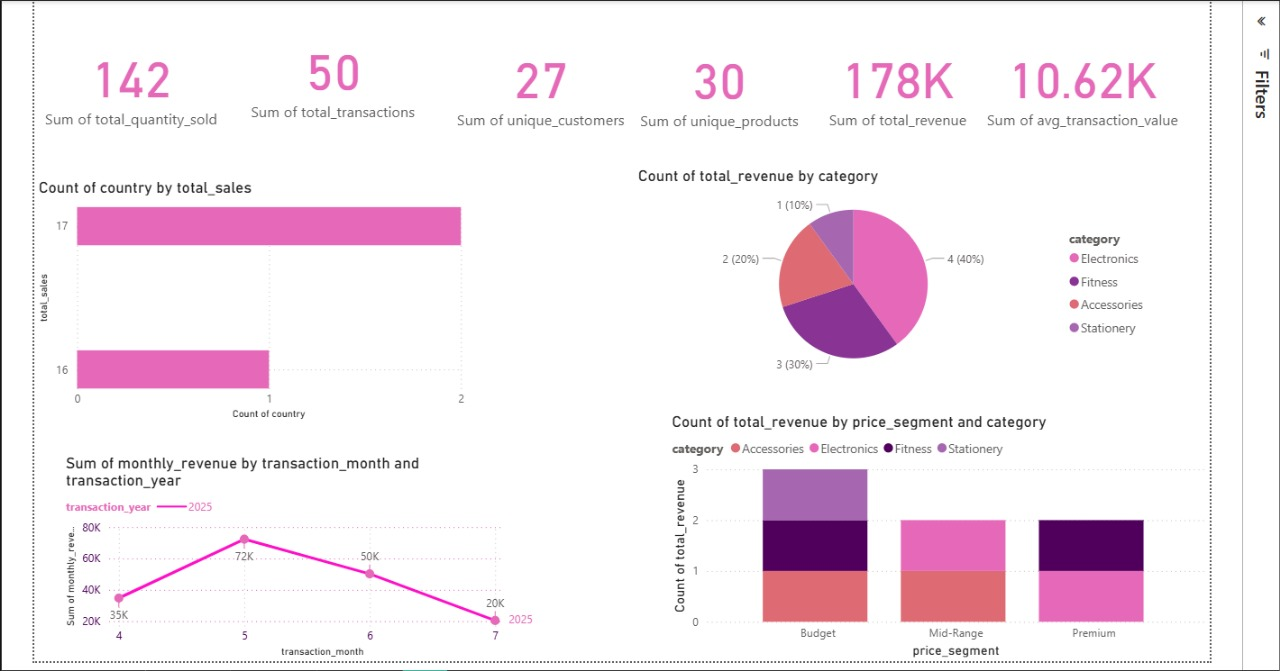

The page's visual inventory and layout, read from the dashboard file:
{"tool":"powerbi","page":{"name":"Page 1","canvas":[1280,720],"ordinal":0},"visuals":[{"type":"card","fields":{"Values":["Sum(country_detailed_analysis_gold.total_quantity_sold)"]},"box":[0,0,211.4,180],"z":0},{"type":"card","fields":{"Values":["Sum(country_detailed_analysis_gold.total_transactions)"]},"box":[228.6,0,194.3,164.3],"z":1000},{"type":"card","fields":{"Values":["Sum(country_detailed_analysis_gold.total_revenue)"]},"box":[840,8.6,200,164.3],"z":2000},{"type":"card","fields":{"Values":["Sum(country_detailed_analysis_gold.unique_customers)"]},"box":[450,18.6,202.9,145.7],"z":3000},{"type":"card","fields":{"Values":["Sum(country_detailed_analysis_gold.unique_products)"]},"box":[652.9,21.4,187.1,142.9],"z":4000},{"type":"card","fields":{"Values":["Sum(country_detailed_analysis_gold.avg_transaction_value)"]},"box":[1028.6,8.6,227.1,164.3],"z":5000},{"type":"lineChart","fields":{"Y":["Sum(monthly_sales_gold.monthly_revenue)"],"Category":["monthly_sales_gold.transaction_month"],"Series":["monthly_sales_gold.transaction_year"]},"box":[29.4,493.3,521.5,227],"z":6000},{"type":"barChart","fields":{"Y":["CountNonNull(sales_by_country_gold.country)"],"Category":["sales_by_country_gold.total_sales"]},"box":[0,192.5,473.8,268.8],"z":7000},{"type":"columnChart","fields":{"Category":["price_segment_analysis_gold.price_segment"],"Y":["CountNonNull(price_segment_analysis_gold.total_revenue)"],"Series":["price_segment_analysis_gold.category"]},"box":[690,447.5,590,272.5],"z":8000},{"type":"pieChart","fields":{"Y":["CountNonNull(product_performance_gold.total_revenue)"],"Category":["product_performance_gold.category"]},"box":[652.5,180,568.8,237.5],"z":9000}]}

Visuals, with their boxes on the page's 1280x720 design canvas (x1, y1, x2, y2). These are canvas units, not pixel positions in the 1280x671 screenshot, which may show the page scaled, cropped or inside an application window:
card - Sum(country_detailed_analysis_gold.total_quantity_sold): x1=0 y1=0 x2=211 y2=180
card - Sum(country_detailed_analysis_gold.total_transactions): x1=229 y1=0 x2=423 y2=164
card - Sum(country_detailed_analysis_gold.total_revenue): x1=840 y1=9 x2=1040 y2=173
card - Sum(country_detailed_analysis_gold.unique_customers): x1=450 y1=19 x2=653 y2=164
card - Sum(country_detailed_analysis_gold.unique_products): x1=653 y1=21 x2=840 y2=164
card - Sum(country_detailed_analysis_gold.avg_transaction_value): x1=1029 y1=9 x2=1256 y2=173
lineChart - Sum(monthly_sales_gold.monthly_revenue) x monthly_sales_gold.transaction_month: x1=29 y1=493 x2=551 y2=720
barChart - CountNonNull(sales_by_country_gold.country) x sales_by_country_gold.total_sales: x1=0 y1=192 x2=474 y2=461
columnChart - price_segment_analysis_gold.price_segment x CountNonNull(price_segment_analysis_gold.total_revenue): x1=690 y1=448 x2=1280 y2=720
pieChart - CountNonNull(product_performance_gold.total_revenue) x product_performance_gold.category: x1=652 y1=180 x2=1221 y2=418
